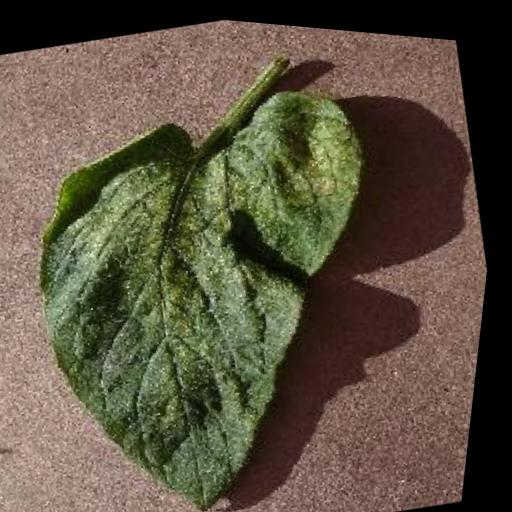Spider Mites: (0, 52, 453, 512)
